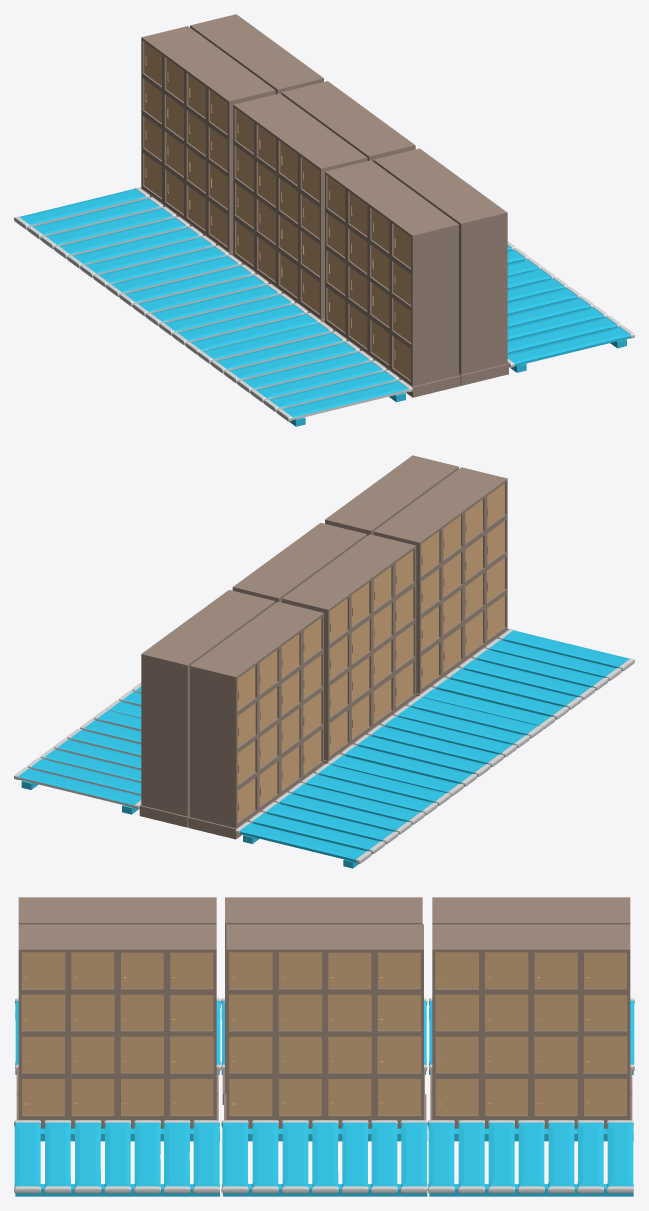
File: 下駄箱軽量統合.fbx
The picture shows the model from 3 angles, top to bottom: view 1: azimuth 30°, elevation 25°; view 2: azimuth 150°, elevation 25°; view 3: azimuth 270°, elevation 25°; orthographic projection. The views are drawn at different scales.
Parts seen in each view (by area): view 1: 立方体.002; view 2: 立方体.002; view 3: 立方体.002.
Boxes of the visible parts, <box> form: 立方体.002: <box>14,14,634,426</box>; 立方体.002: <box>14,455,634,868</box>; 立方体.002: <box>14,897,634,1196</box>.
Size of the model in its own units: 11.2 by 4.98 by 15.43.
